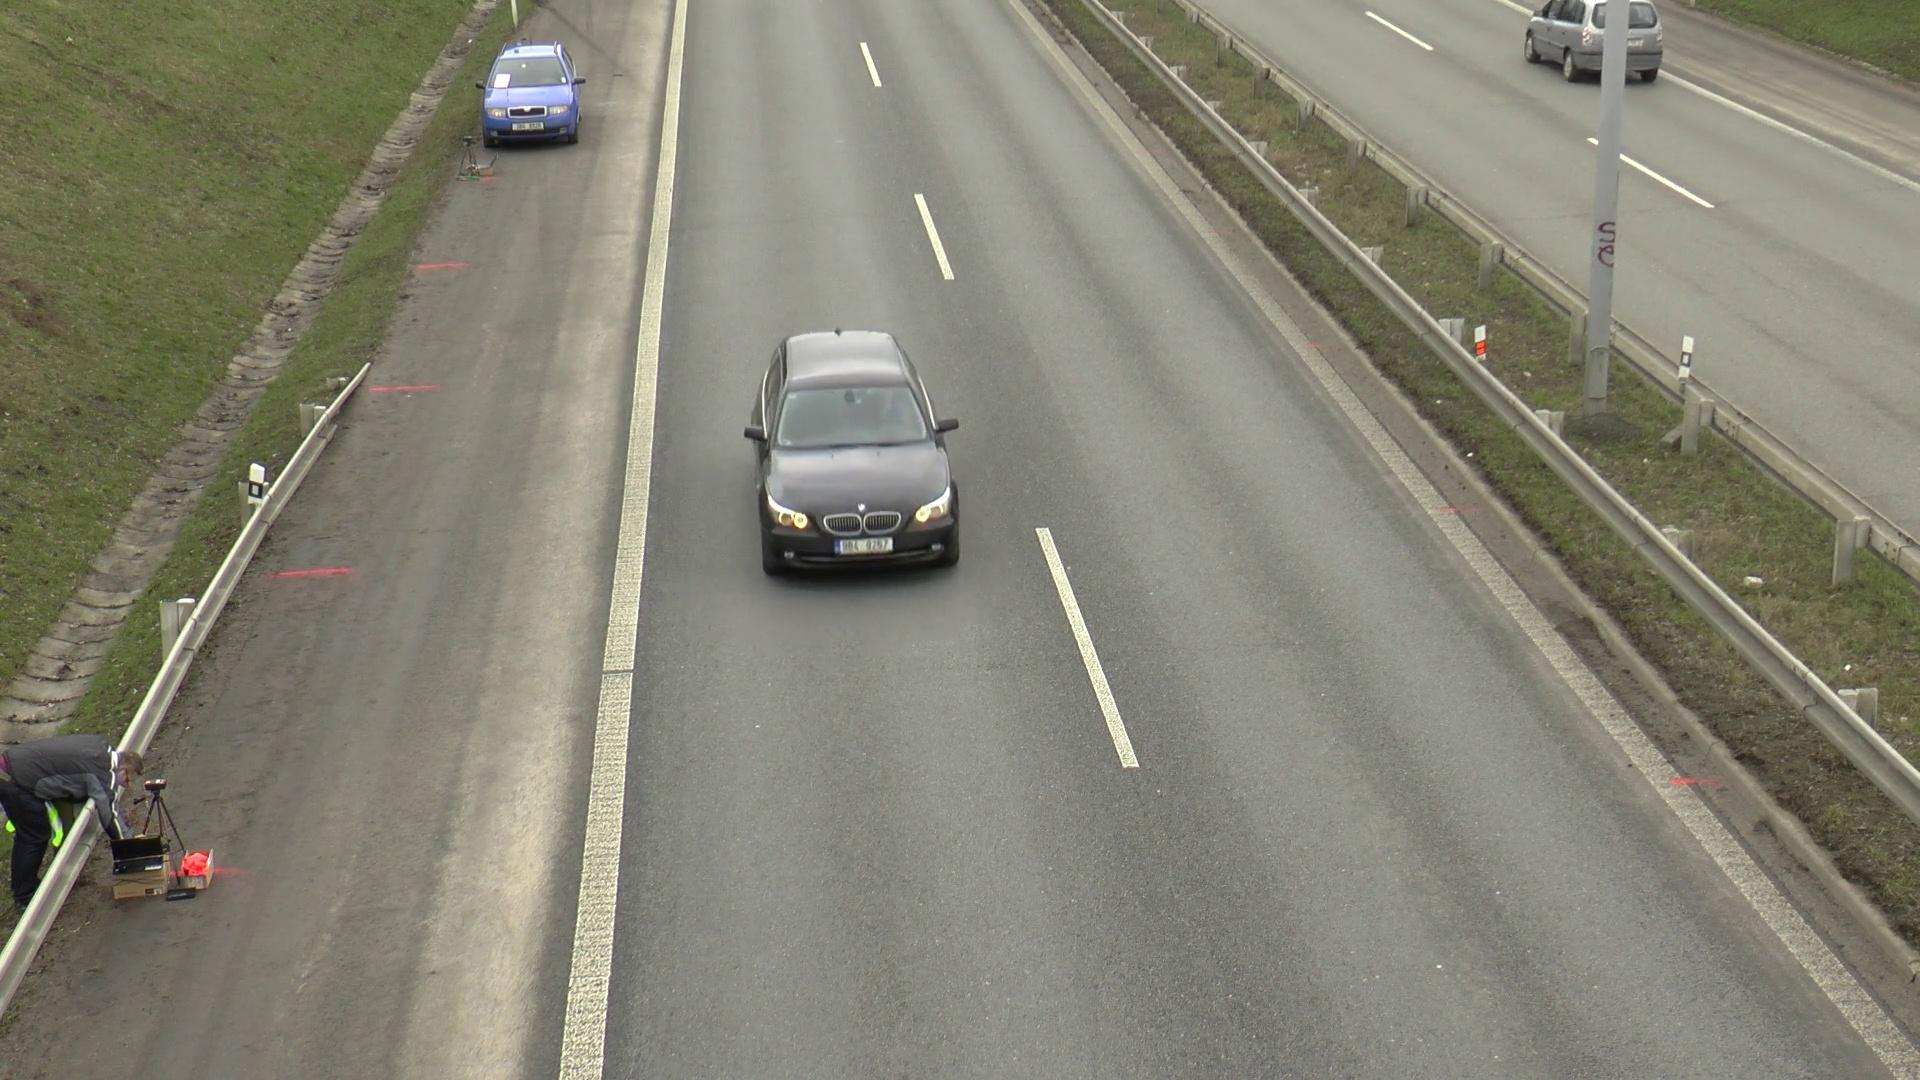Car: (738, 322, 974, 593), (1500, 4, 1694, 91), (482, 40, 579, 161)
Human: (0, 730, 158, 905)
